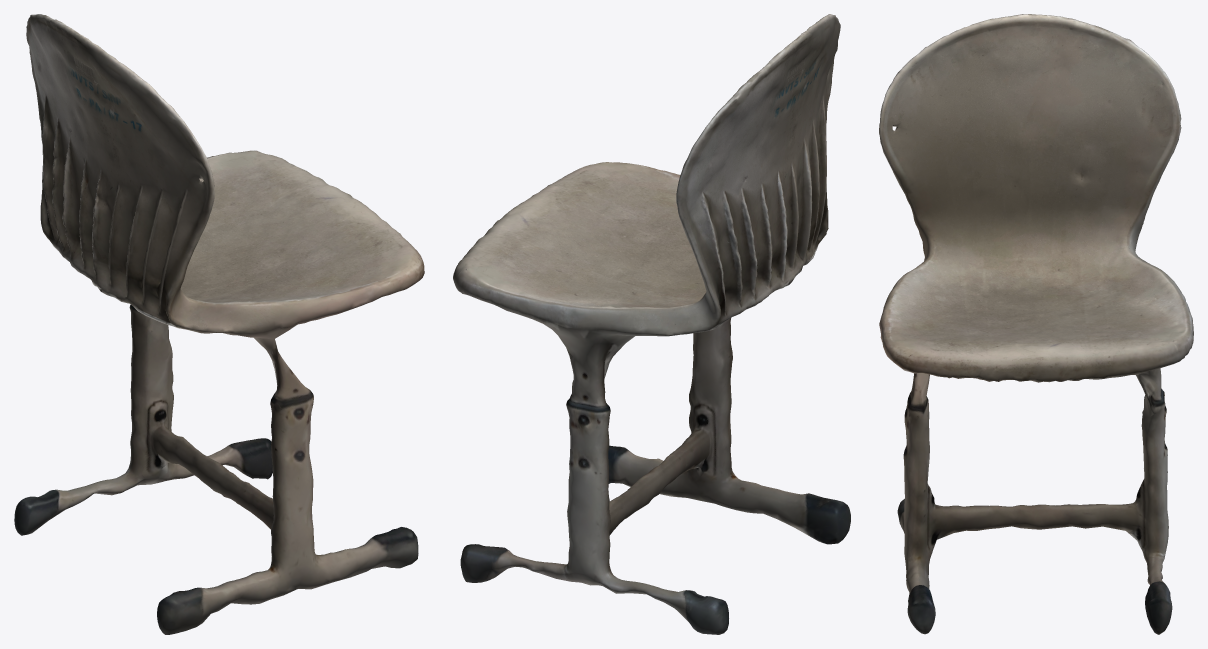
File: Kursi.obj
3 views of the same model, side by side, from view 1: azimuth 30°, elevation 25°; view 2: azimuth 150°, elevation 25°; view 3: azimuth 270°, elevation 25° (orthographic). The views are drawn at different scales.
Parts seen in each view (by area): view 1: Mesh; view 2: Mesh; view 3: Mesh.
Boxes of the visible parts, <box> form: Mesh: <box>14,14,424,634</box>; Mesh: <box>453,14,850,634</box>; Mesh: <box>879,14,1193,634</box>.
Bounding box in the file's own units: 0.4303 × 0.7817 × 0.4395.
1 material, 1 textured.
